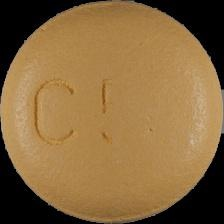65597-115: (0, 0, 224, 224)
